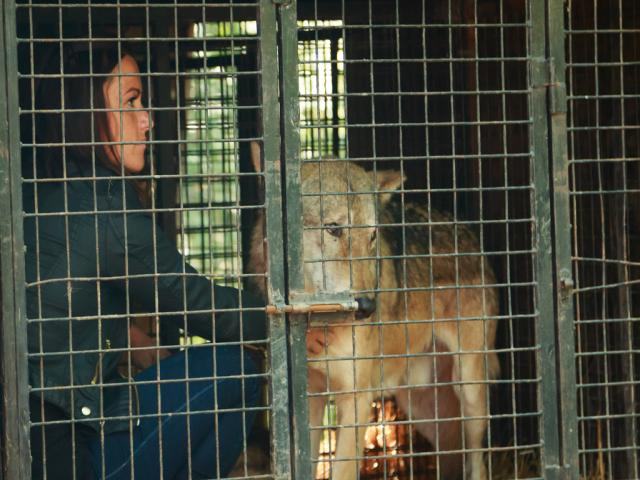Dog: (245, 140, 500, 480)
